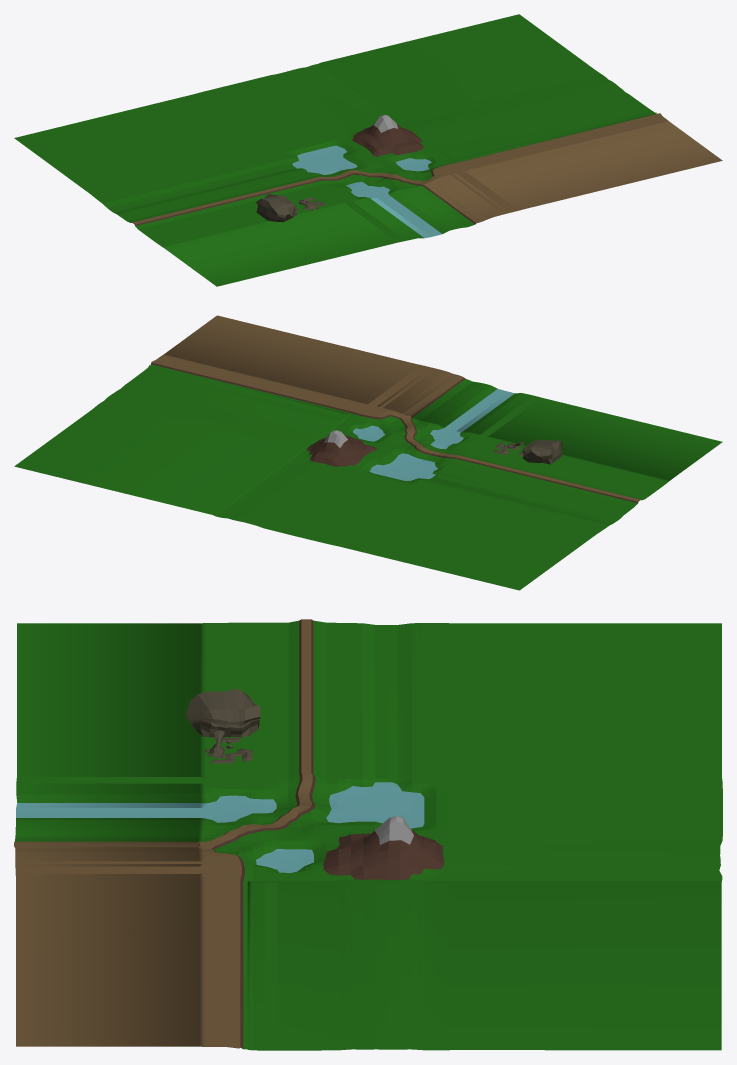
File: Terreno.glb
3 renders of one model, top to bottom at view 1: azimuth 30°, elevation 25°; view 2: azimuth 150°, elevation 25°; view 3: azimuth 270°, elevation 25°, orthographic. The views are drawn at different scales.
Visible parts, largest first — view 1: Plano, Plano subdividido; view 2: Plano, Plano subdividido; view 3: Plano, Plano subdividido.
Part boxes in pixels (x1=…): Plano: x1=14, y1=14, x2=722, y2=286; Plano subdividido: x1=256, y1=194, x2=326, y2=221; Plano: x1=14, y1=315, x2=722, y2=590; Plano subdividido: x1=493, y1=440, x2=562, y2=464; Plano: x1=14, y1=619, x2=722, y2=1050; Plano subdividido: x1=185, y1=688, x2=260, y2=763.
Bounding box in the file's own units: 1470 × 74.77 × 1023.
